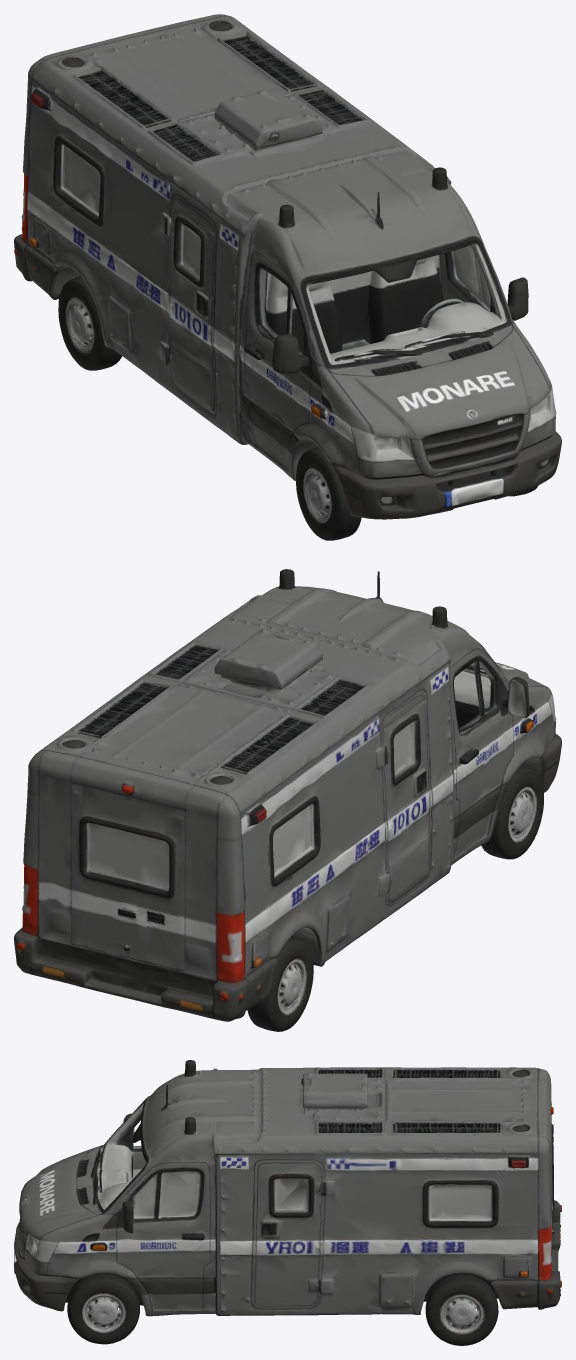
The model's file is 056_armored_money_van.glb.
3 views of the same model, one above another, from view 1: azimuth 30°, elevation 25°; view 2: azimuth 150°, elevation 25°; view 3: azimuth 270°, elevation 25° (orthographic). The views are drawn at different scales.
Visible parts, largest first — view 1: geometry_0; view 2: geometry_0; view 3: geometry_0.
Boxes of the visible parts, x1,y1,x2,y2 form: geometry_0: [14, 14, 561, 540]; geometry_0: [14, 569, 561, 1031]; geometry_0: [14, 1060, 561, 1345].
Size of the model in its own units: 2.46 by 2.74 by 6.
1 material, 1 textured.
